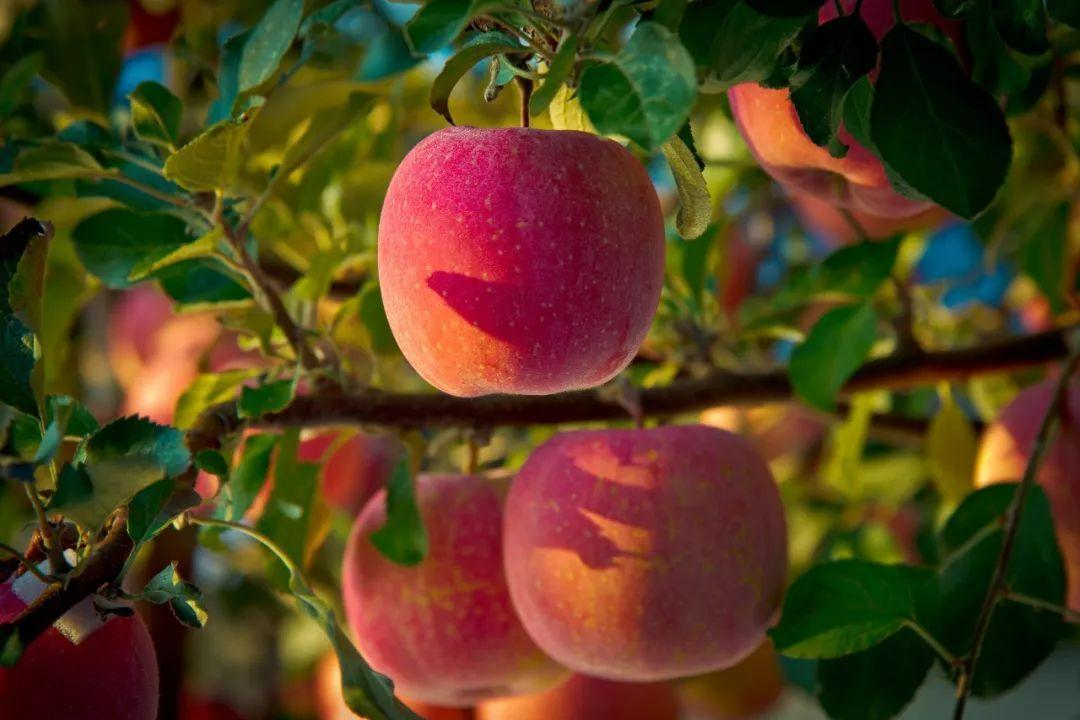apple: (370, 130, 670, 403), (496, 422, 788, 685), (339, 465, 573, 705)
